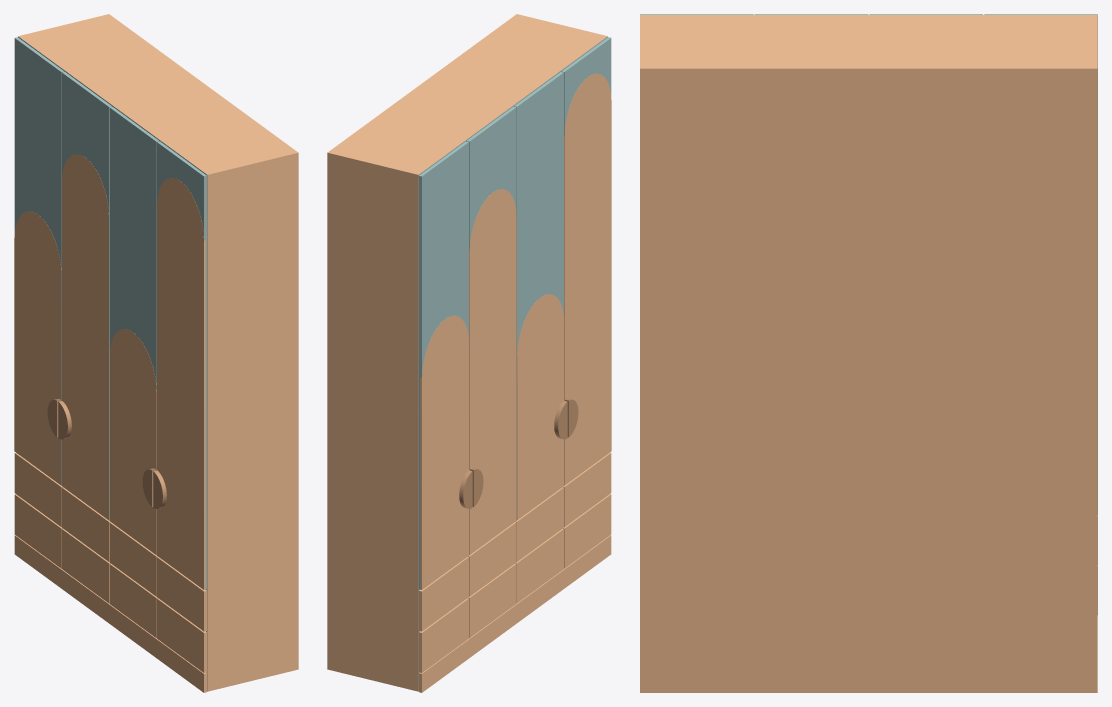
Rendered from Furn3_chest_right_color2_joined.fbx.
3 views of the same model, side by side, from view 1: azimuth 30°, elevation 25°; view 2: azimuth 150°, elevation 25°; view 3: azimuth 270°, elevation 25° (orthographic). The views are drawn at different scales.
Parts seen in each view (by area): view 1: Цилиндр.053; view 2: Цилиндр.053; view 3: Цилиндр.053.
Part boxes in pixels (x1,y1,x2,y2): Цилиндр.053: (14,14,298,692); Цилиндр.053: (327,14,611,692); Цилиндр.053: (640,14,1097,692).
Bounding box in the file's own units: 125 × 626 × 416.
